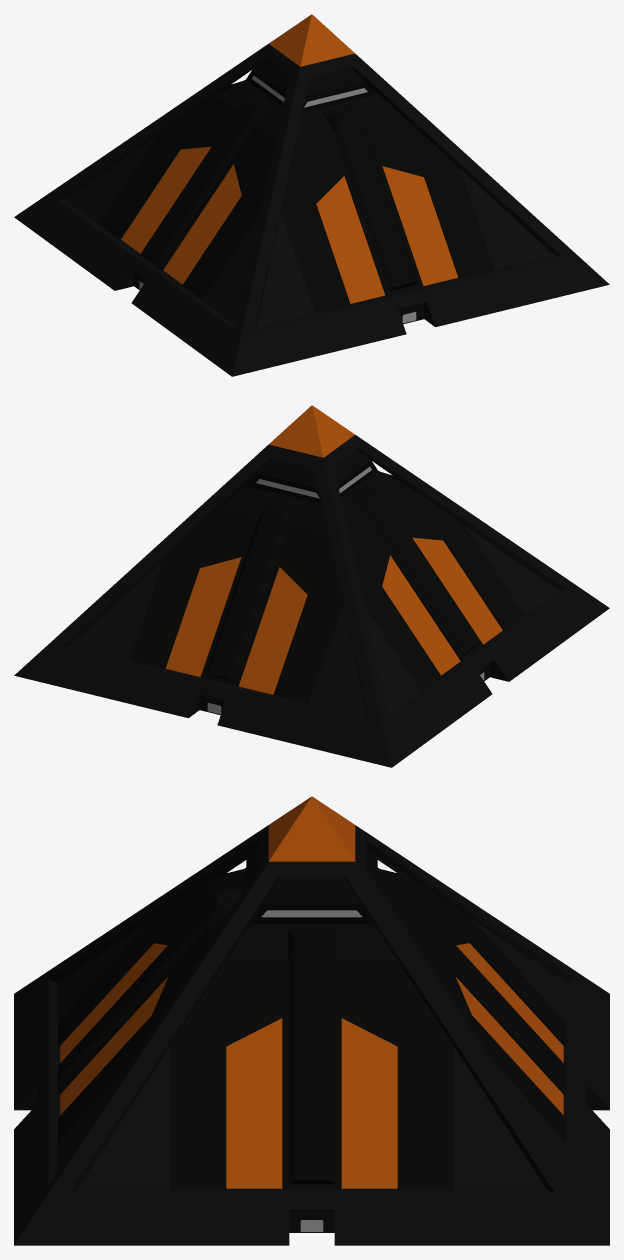
Rendered from BS_concept_001.obj.
The picture shows the model from 3 angles, top to bottom: view 1: azimuth 30°, elevation 25°; view 2: azimuth 150°, elevation 25°; view 3: azimuth 270°, elevation 25°; orthographic projection. The views are drawn at different scales.
Visible parts, largest first — view 1: Cube.001_Cube.002, Cube_Cube.002, Cube.006_Cube.004, Cube.010_Cube.004, Cube.005_Cube.004; view 2: Cube.003_Cube.002, Cube_Cube.002, Cube.010_Cube.004, Cube.005_Cube.004, Cube.006_Cube.004; view 3: Cube.002, Cube.003_Cube.002, Cube.001_Cube.002, Cube.010_Cube.004, Cube.005_Cube.004, Cube.006_Cube.004, Cube.009_Cube.004.
Part boxes in pixels (x1=…): Cube.001_Cube.002: x1=232, y1=53, x2=609, y2=376; Cube_Cube.002: x1=14, y1=43, x2=300, y2=376; Cube.006_Cube.004: x1=275, y1=15, x2=353, y2=66; Cube.010_Cube.004: x1=269, y1=14, x2=335, y2=66; Cube.005_Cube.004: x1=297, y1=16, x2=354, y2=65; Cube.003_Cube.002: x1=14, y1=444, x2=391, y2=767; Cube_Cube.002: x1=323, y1=434, x2=609, y2=767; Cube.010_Cube.004: x1=269, y1=405, x2=333, y2=456; Cube.005_Cube.004: x1=300, y1=408, x2=354, y2=457; Cube.006_Cube.004: x1=302, y1=407, x2=353, y2=451; Cube.002: x1=14, y1=861, x2=609, y2=1245; Cube.003_Cube.002: x1=355, y1=825, x2=609, y2=1245; Cube.001_Cube.002: x1=14, y1=825, x2=268, y2=1245; Cube.010_Cube.004: x1=269, y1=796, x2=346, y2=861; Cube.005_Cube.004: x1=269, y1=797, x2=355, y2=861; Cube.006_Cube.004: x1=269, y1=799, x2=355, y2=861; Cube.009_Cube.004: x1=268, y1=797, x2=341, y2=860.
Size of the model in its own units: 100 by 59.9 by 100.
